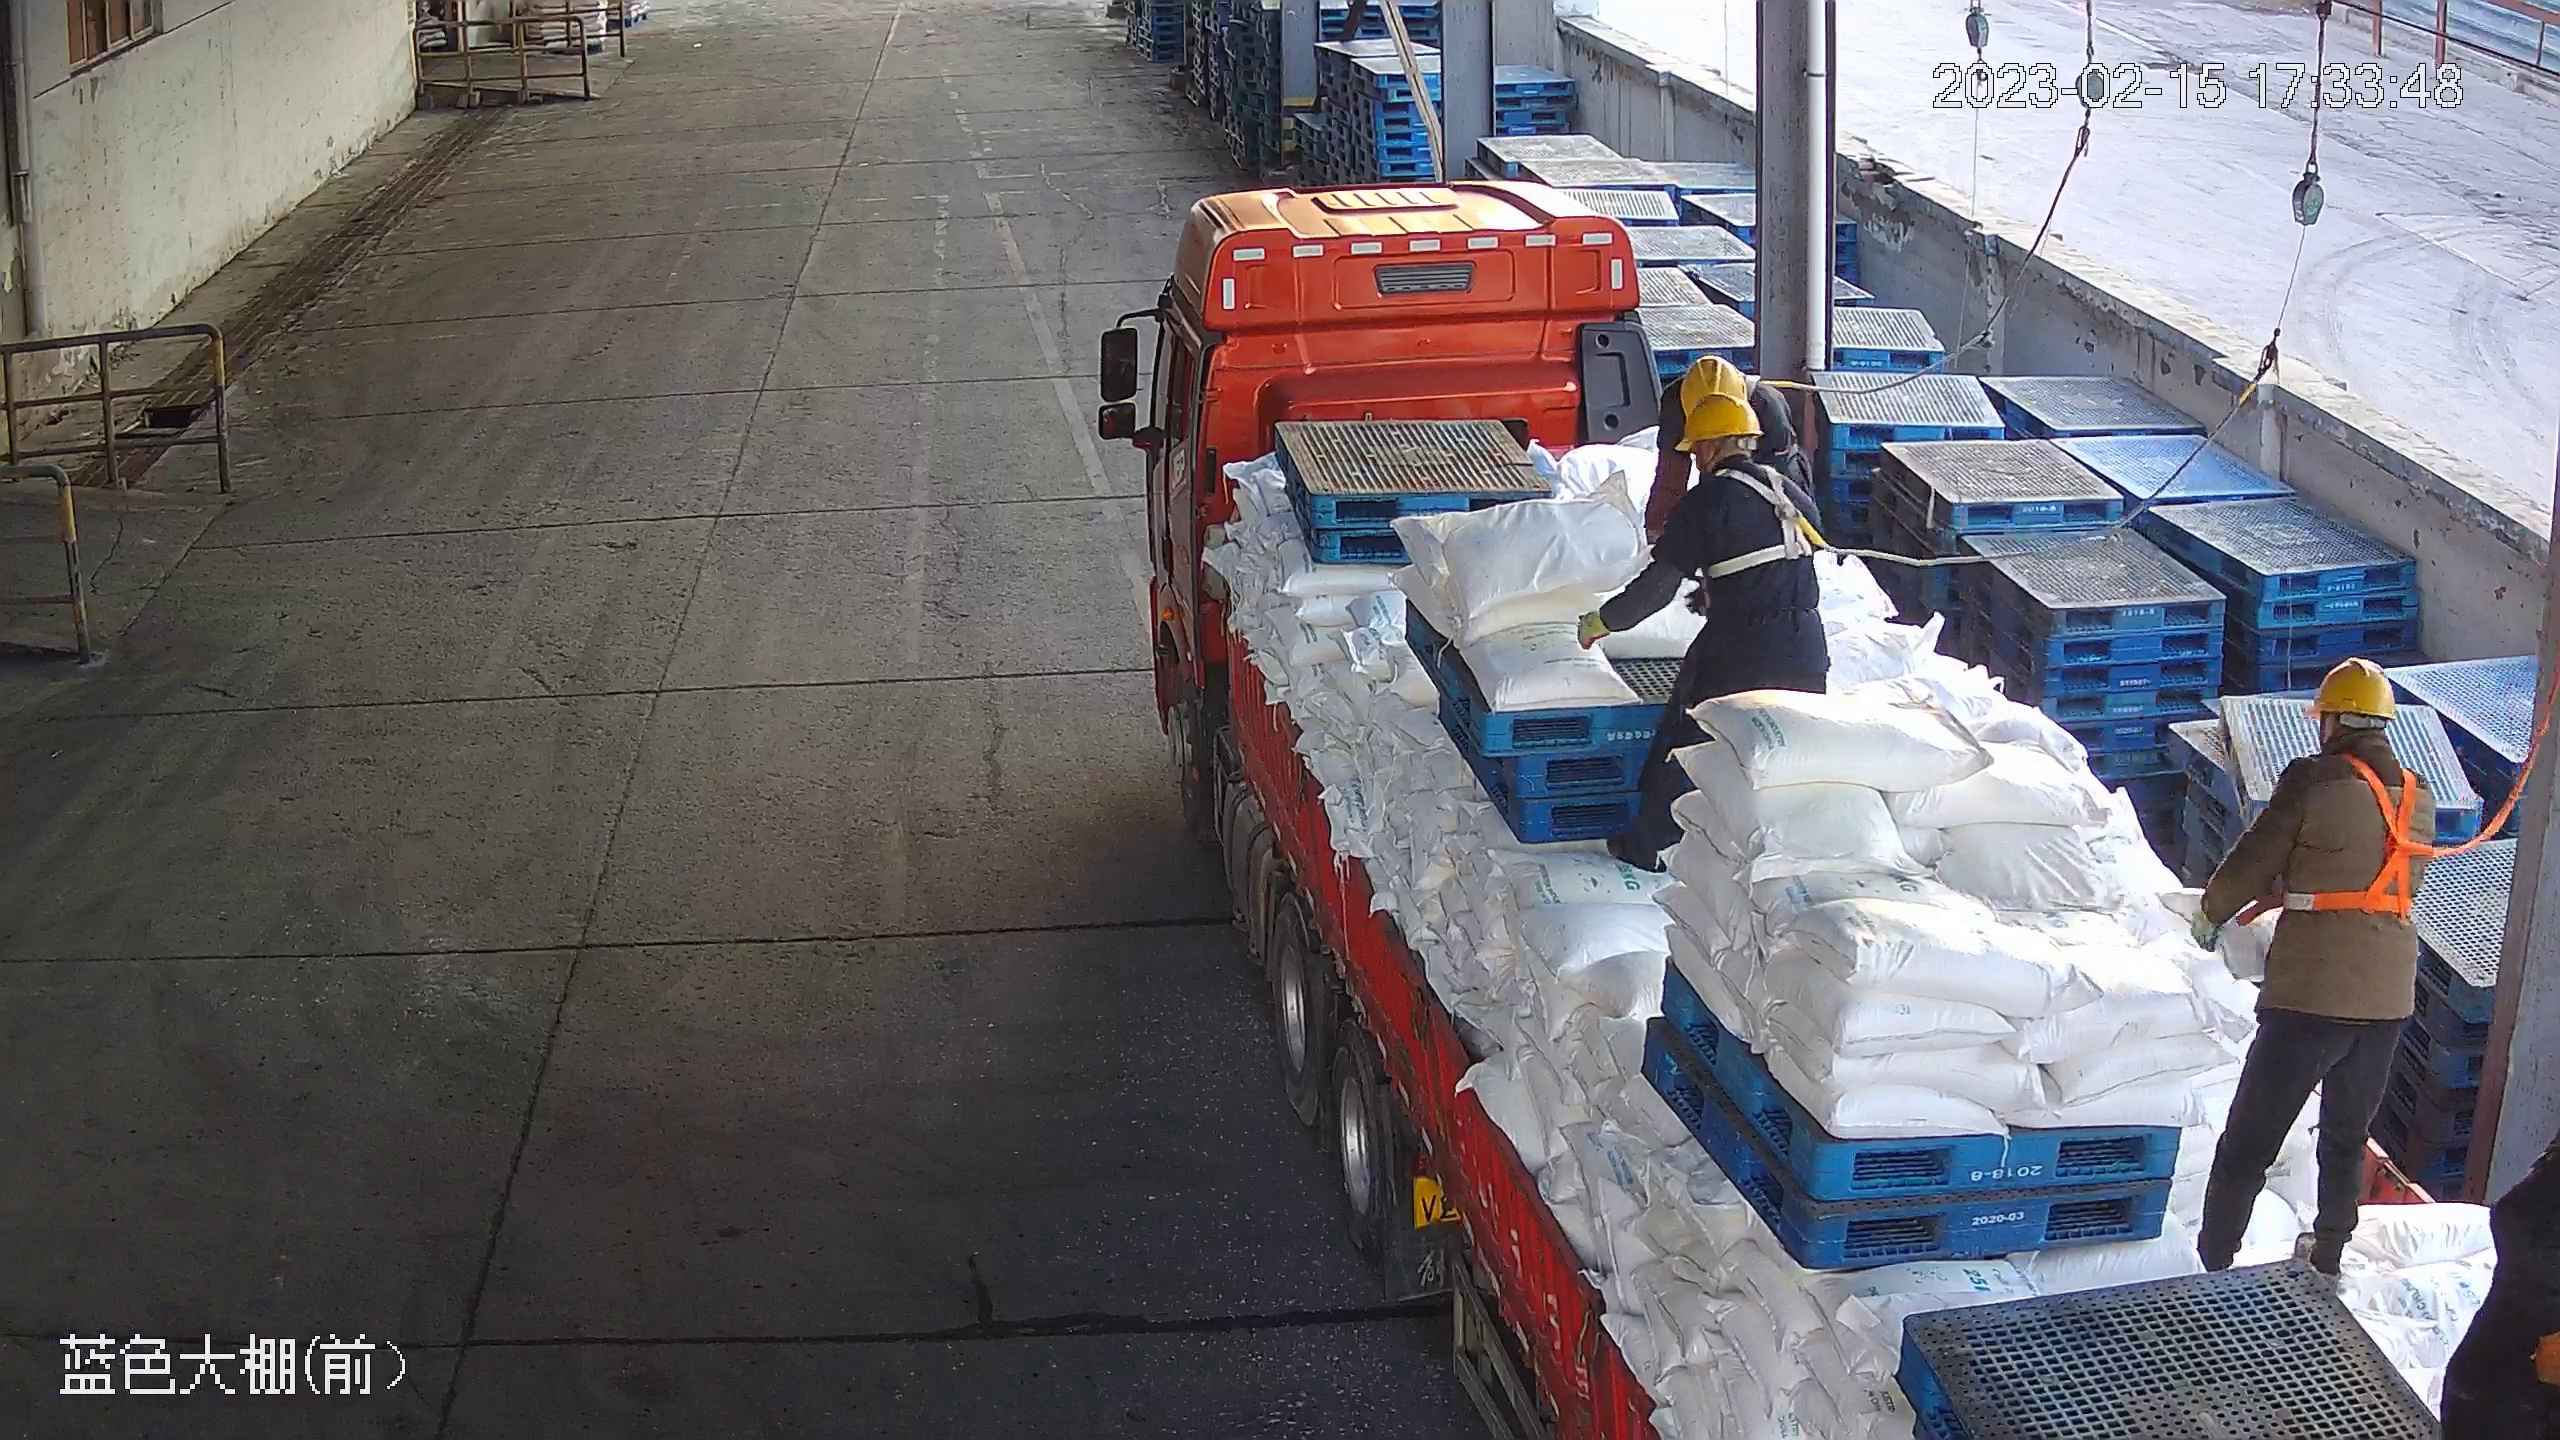belt: (2280, 751, 2455, 920), (1701, 462, 1846, 578), (1734, 368, 1810, 409)
head: (2282, 654, 2438, 811), (1663, 392, 1821, 524)
helmet: (2304, 655, 2398, 723), (1674, 392, 1764, 452)
people: (2190, 657, 2438, 1279), (1573, 391, 1834, 875)
truck: (1149, 183, 2560, 1440)
